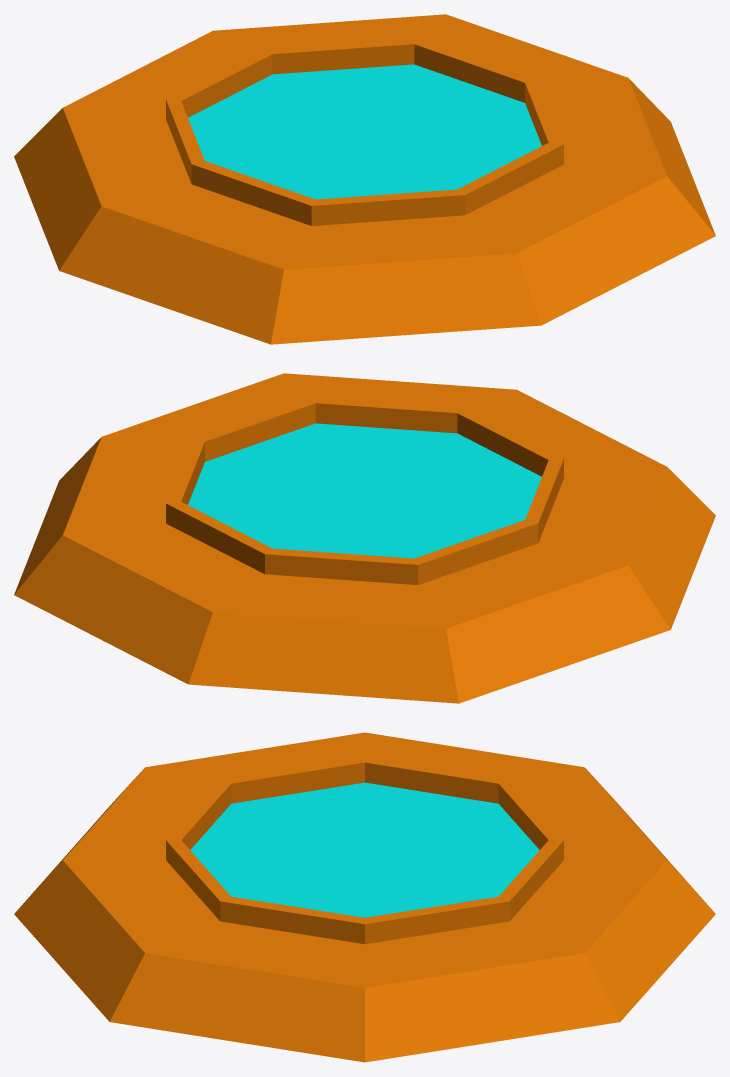
The model's file is Fishery.glb.
The picture shows the model from 3 angles, top to bottom: view 1: azimuth 30°, elevation 25°; view 2: azimuth 150°, elevation 25°; view 3: azimuth 270°, elevation 25°; orthographic projection.
Parts seen in each view (by area): view 1: Fishery; view 2: Fishery; view 3: Fishery.
Part boxes in pixels (left/top/right/bottom): Fishery: left=14, top=14, right=715, bottom=344; Fishery: left=14, top=373, right=715, bottom=703; Fishery: left=14, top=732, right=715, bottom=1062.
Size of the model in its own units: 1.28 by 0.1483 by 1.28.
